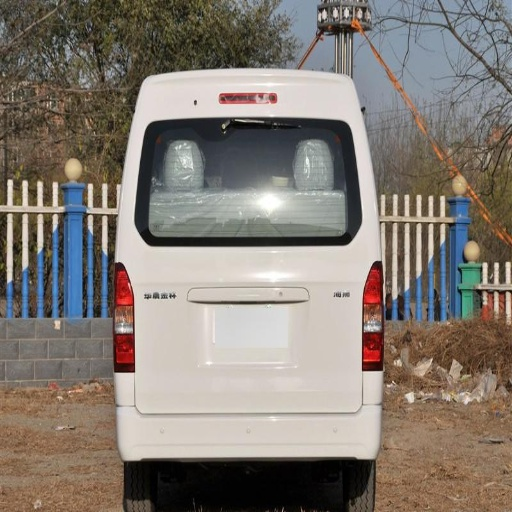back_bumper: (116, 372, 381, 461)
tailgate: (197, 231, 352, 286)
trunk: (119, 247, 371, 412), (237, 83, 333, 138)
